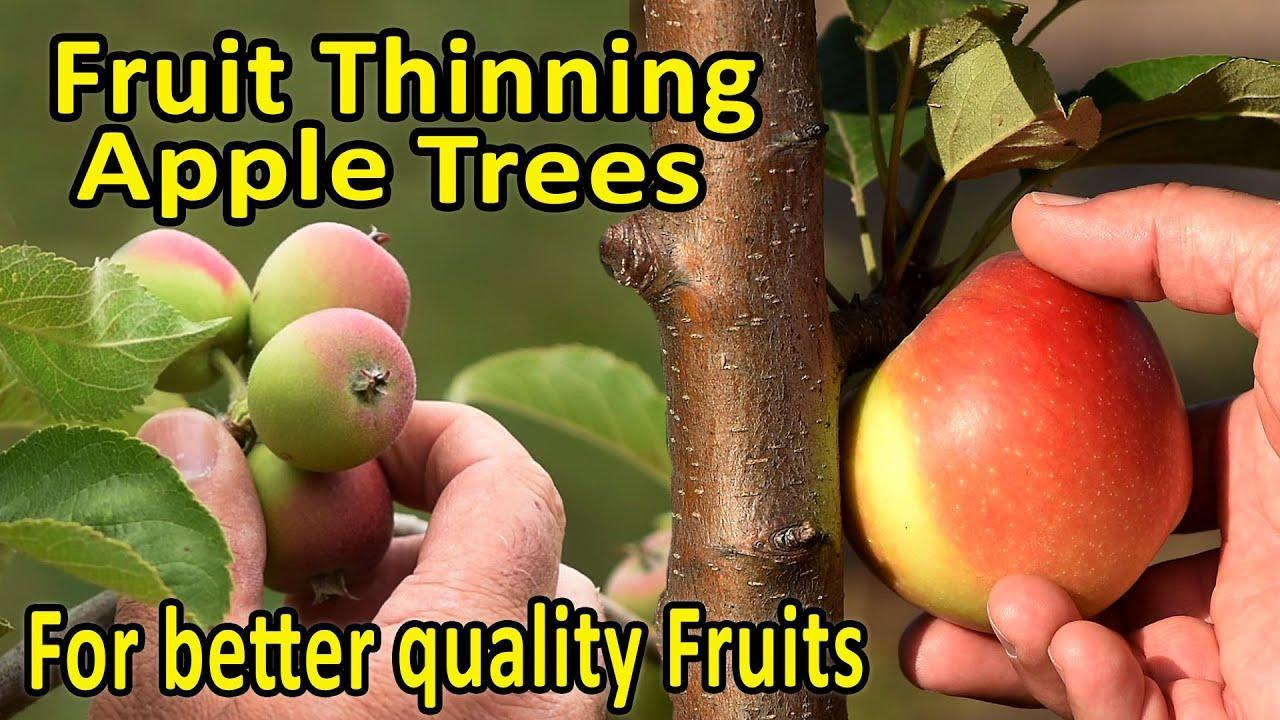apple: (835, 226, 1202, 626), (247, 306, 420, 474), (140, 411, 271, 614), (247, 433, 400, 596), (107, 225, 245, 396), (242, 222, 412, 353)
